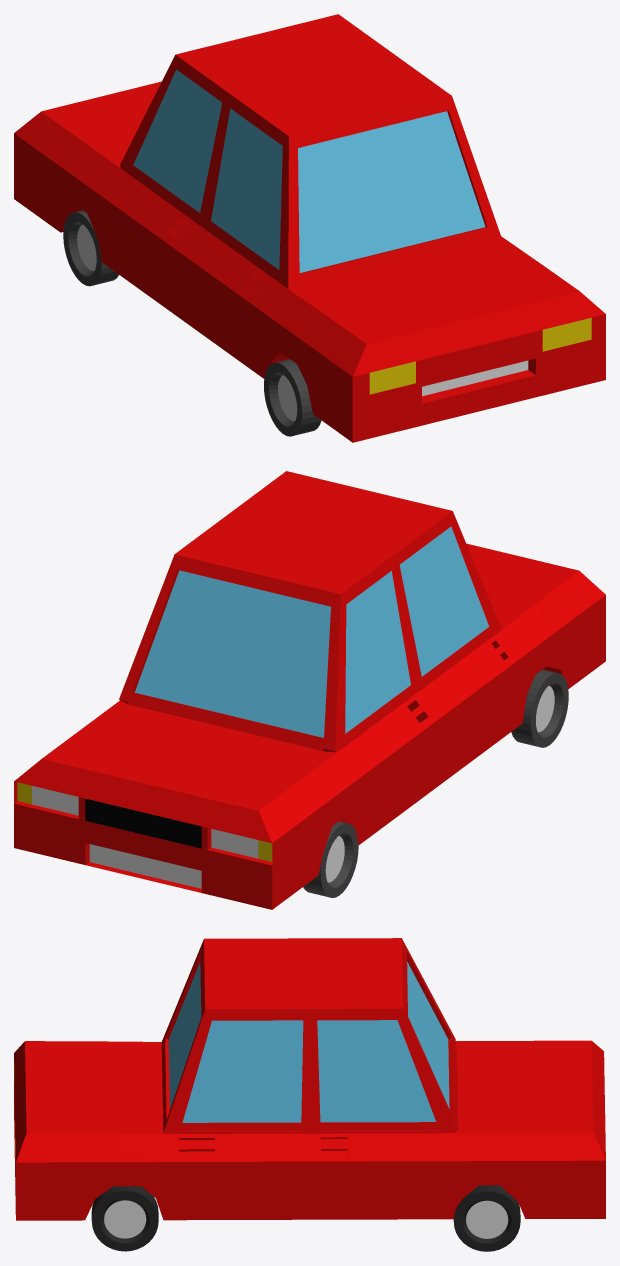
The model's file is Lowpolycar.glb.
3 renders of one model, top to bottom at view 1: azimuth 30°, elevation 25°; view 2: azimuth 150°, elevation 25°; view 3: azimuth 270°, elevation 25°, orthographic. The views are drawn at different scales.
Parts seen in each view (by area): view 1: Cube, Cylinder.002, Cylinder.004; view 2: Cube, Cylinder.002, Cylinder.004; view 3: Cube, Cylinder.000, Cylinder.001.
Boxes of the visible parts, x1,y1,x2,y2 form: Cube: [14, 14, 605, 442]; Cylinder.002: [264, 359, 321, 436]; Cylinder.004: [63, 210, 118, 286]; Cube: [14, 471, 605, 909]; Cylinder.002: [511, 669, 568, 747]; Cylinder.004: [303, 821, 358, 897]; Cube: [14, 938, 605, 1220]; Cylinder.000: [91, 1186, 158, 1251]; Cylinder.001: [453, 1185, 520, 1251].
Size of the model in its own units: 2.08 by 1.9 by 4.57.
